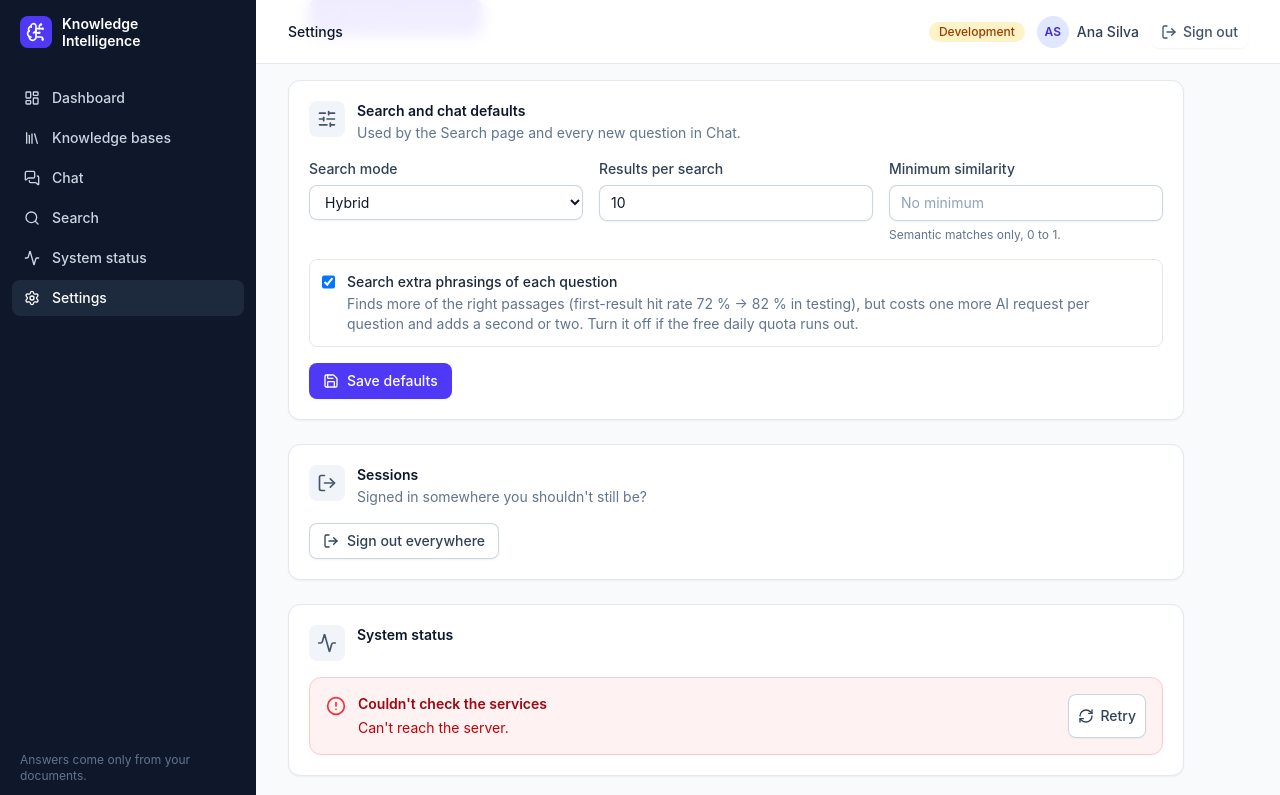
Test case: settings page › offers a retry when the status check fails
(page scrolled)
Expected: the message shows "Can't reach the server.", [358, 719, 509, 736]
What coordinates should you click on to do the following:
click the button "Retry"
I would click on:
 (1107, 716)
Its box is [1068, 694, 1146, 738].
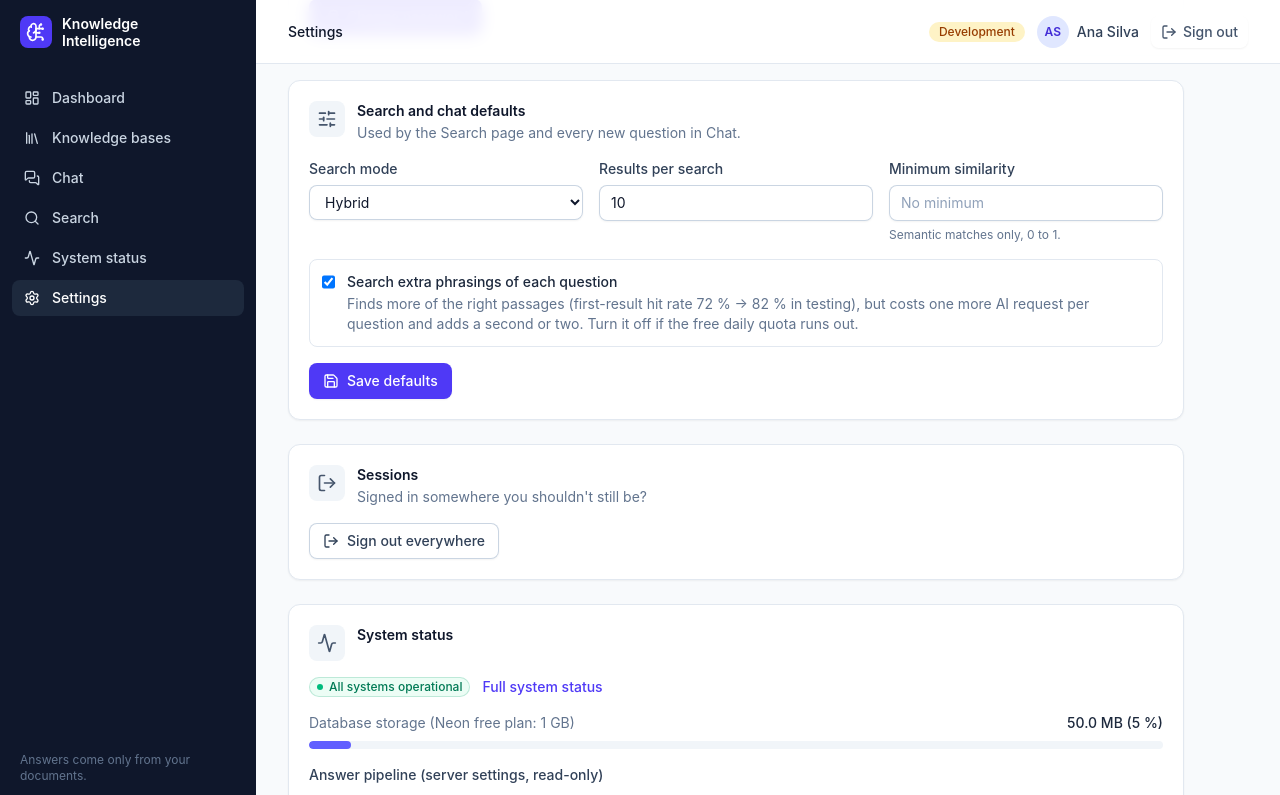
Now the text "All systems operational" is shown, box [309, 677, 470, 697]
